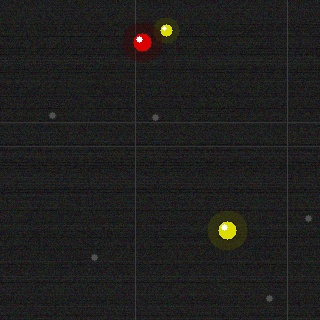red_fault: (131, 31, 153, 53)
yellow_warning: (216, 219, 238, 241), (158, 22, 174, 38)
